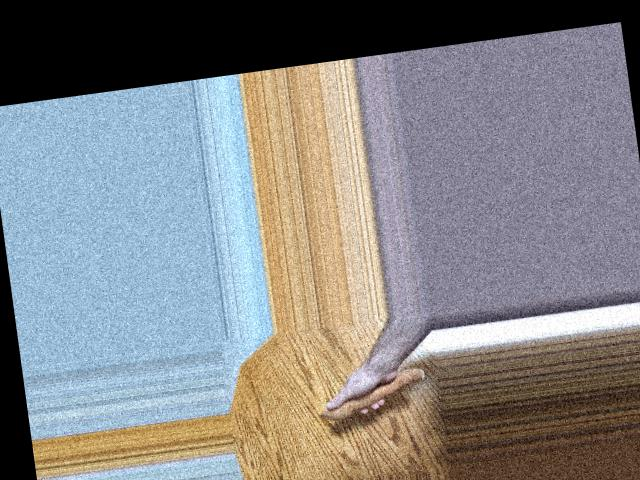sweet_potato: (318, 362, 430, 425)
